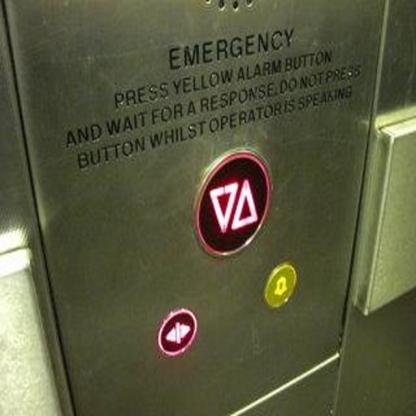alarm: (262, 259, 297, 310)
open: (156, 305, 198, 359)
updown: (190, 146, 271, 259)
